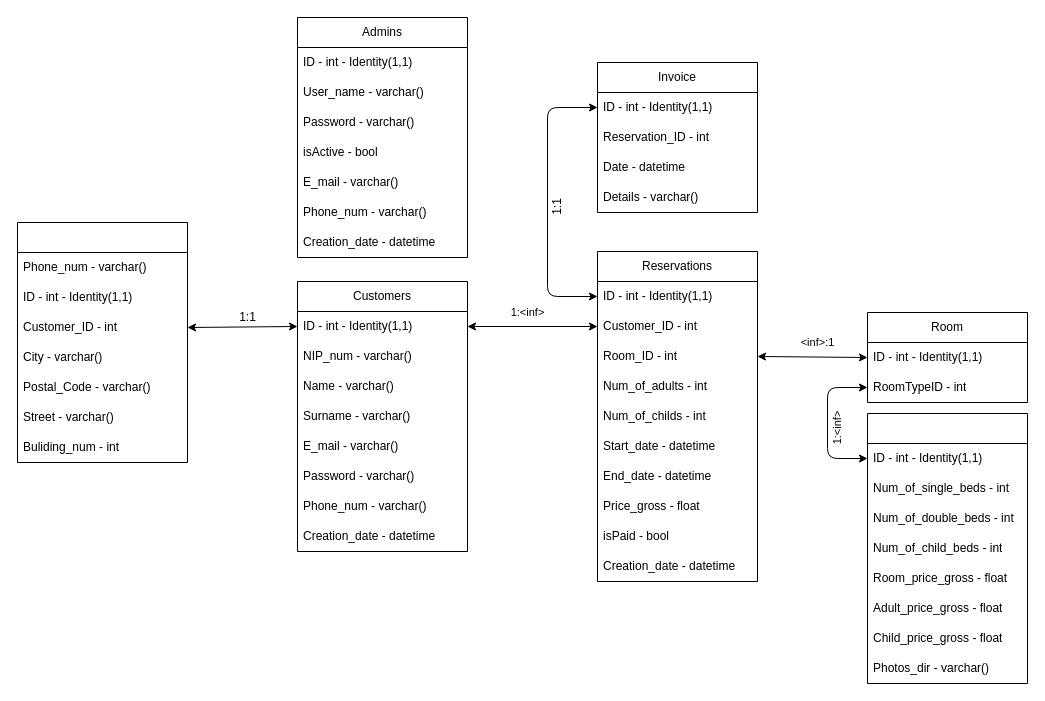
The diagram is 1045 pixels wide and 701 high, and some of its shapes have lost their labels. The shapes that lost their labels are listed below. From the top down, each one's box as (x1, y1, x2, y2) in pixels, then its label:
(16, 222, 188, 462): Addresses
(866, 412, 1028, 684): RoomType
